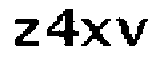4: (46, 6, 81, 49)
v: (112, 16, 150, 48)
x: (81, 16, 111, 52)
z: (11, 15, 41, 49)
